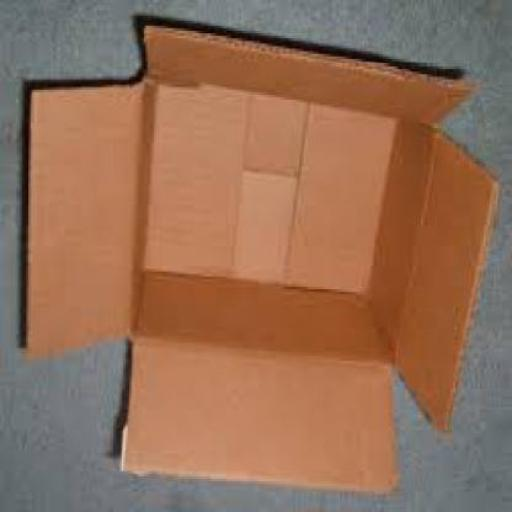cardboard: (20, 26, 498, 496)
